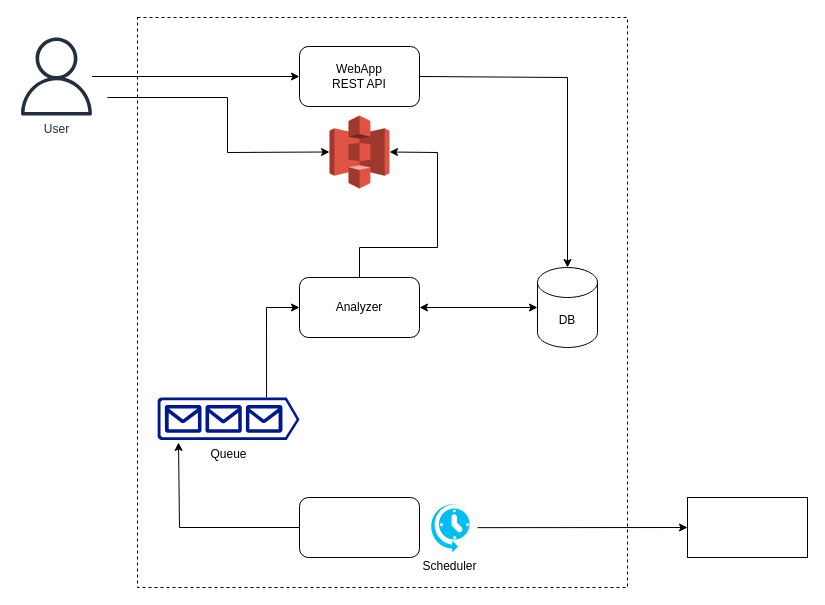
The diagram is 825 pixels wide and 605 high, and some of its shapes have lost their labels. The centre of each missing label's shape, as x and y in pixels:
"ArXiv API" goes at (747,527).
"Collector" goes at (359,527).
"Object Storage" goes at (359,151).
